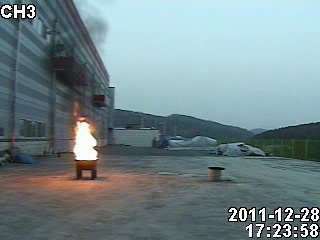fire: (71, 118, 97, 162)
